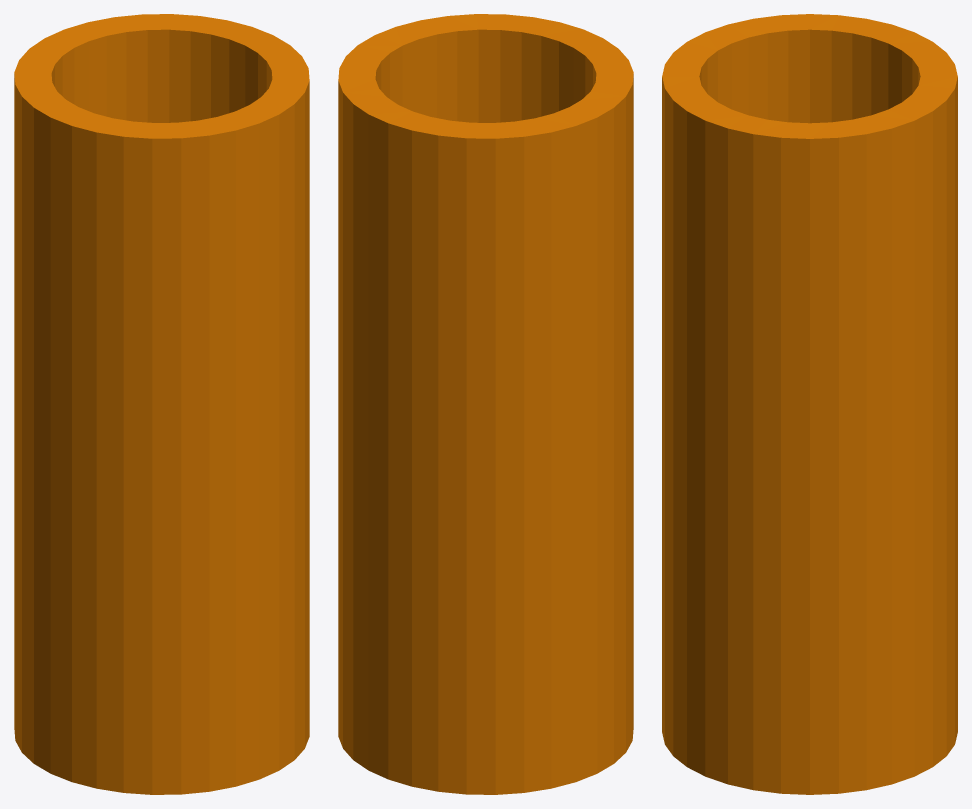
3 renders of one model, left to right at view 1: azimuth 30°, elevation 25°; view 2: azimuth 150°, elevation 25°; view 3: azimuth 270°, elevation 25°, orthographic.
Visible parts, largest first — view 1: Cylinder; view 2: Cylinder; view 3: Cylinder.
Part boxes in pixels (x1=…): Cylinder: x1=14, y1=14, x2=309, y2=794; Cylinder: x1=338, y1=14, x2=633, y2=794; Cylinder: x1=662, y1=14, x2=957, y2=794.
Size of the model in its own units: 0.0203 by 0.0203 by 0.0498.
